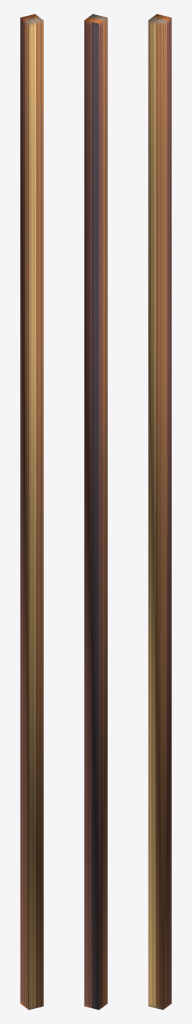
The model's file is steam_vent.glb.
3 views of the same model, side by side, from view 1: azimuth 30°, elevation 25°; view 2: azimuth 150°, elevation 25°; view 3: azimuth 330°, elevation 25° (orthographic).
Parts seen in each view (by area): view 1: col; view 2: col; view 3: col.
Boxes of the visible parts, <box> form: col: <box>20,14,43,1009</box>; col: <box>84,14,107,1009</box>; col: <box>148,14,171,1009</box>.
Bounding box in the file's own units: 0.0143 × 0.9153 × 0.0143.
1 material, 1 textured.
